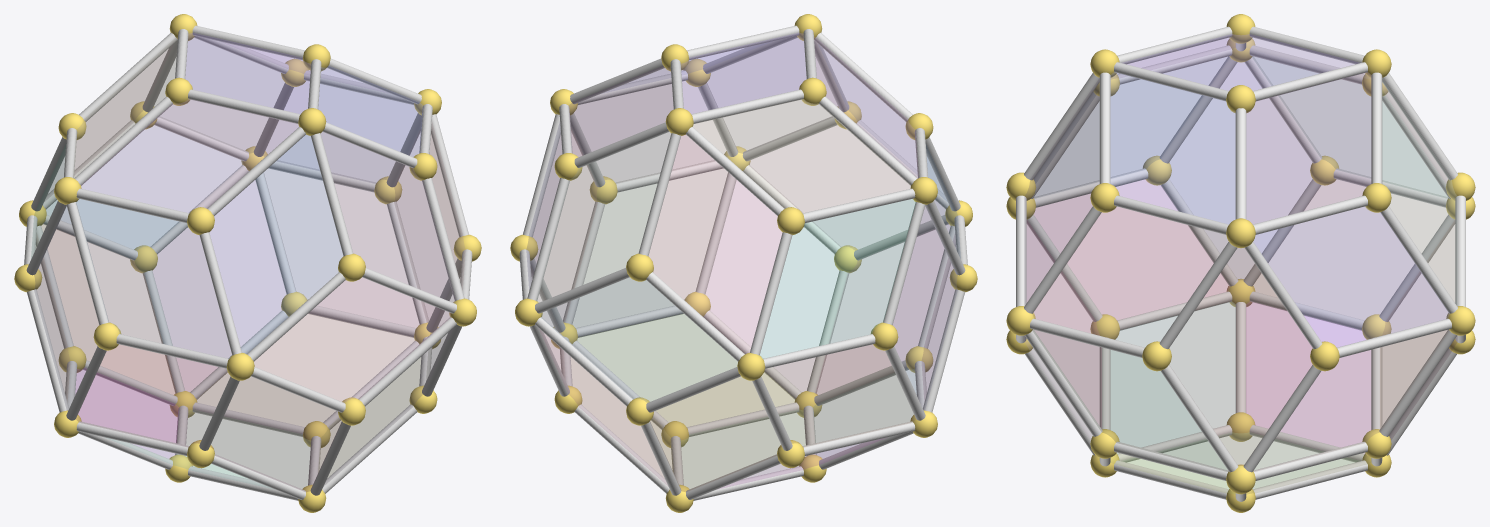
3 renders of one model, left to right at view 1: azimuth 30°, elevation 25°; view 2: azimuth 150°, elevation 25°; view 3: azimuth 270°, elevation 25°, orthographic. The views are drawn at different scales.
Parts seen in each view (by area): view 1: Cristal.007, Cristal.006, Cristal.022, Cristal.008, Cristal.027, Cristal.023, Cristal.018, Cristal.021, Cristal.030, Cristal.005, Cristal.003, Cristal.011 (+87 smaller); view 2: Cristal.014, Cristal.012, Cristal.015, Cristal.013, Cristal.030, Cristal.017, Cristal.024, Cristal.016, Cristal.027, Cristal.010, Cristal.011, Cristal.003 (+87 smaller); view 3: Cristal.032, Cristal.019, Cristal.026, Cristal.020, Cristal.025, Cristal.005, Cristal.010, Cristal.029, Cristal.004, Cristal.009, Cristal.017, Cristal.023 (+83 smaller).
Boxes of the visible parts, x1=… form: Cristal.007: x1=210, y1=135, x2=342, y2=353; Cristal.006: x1=76, y1=199, x2=231, y2=358; Cristal.022: x1=153, y1=181, x2=285, y2=391; Cristal.008: x1=81, y1=99, x2=298, y2=212; Cristal.027: x1=254, y1=278, x2=450, y2=402; Cristal.023: x1=264, y1=169, x2=418, y2=327; Cristal.018: x1=321, y1=132, x2=455, y2=302; Cristal.021: x1=197, y1=314, x2=413, y2=426; Cristal.030: x1=46, y1=126, x2=242, y2=250; Cristal.005: x1=76, y1=344, x2=229, y2=446; Cristal.003: x1=210, y1=377, x2=341, y2=491; Cristal.011: x1=42, y1=224, x2=175, y2=394; Cristal.014: x1=649, y1=135, x2=781, y2=353; Cristal.012: x1=760, y1=199, x2=915, y2=358; Cristal.015: x1=706, y1=181, x2=838, y2=391; Cristal.013: x1=693, y1=99, x2=910, y2=212; Cristal.030: x1=541, y1=278, x2=737, y2=402; Cristal.017: x1=573, y1=169, x2=727, y2=327; Cristal.024: x1=536, y1=132, x2=670, y2=302; Cristal.016: x1=578, y1=314, x2=794, y2=426; Cristal.027: x1=749, y1=126, x2=945, y2=250; Cristal.010: x1=762, y1=344, x2=915, y2=446; Cristal.011: x1=650, y1=377, x2=781, y2=491; Cristal.003: x1=816, y1=224, x2=949, y2=394; Cristal.032: x1=1169, y1=248, x2=1312, y2=465; Cristal.019: x1=1033, y1=206, x2=1228, y2=346; Cristal.026: x1=1253, y1=206, x2=1448, y2=346; Cristal.020: x1=1110, y1=72, x2=1235, y2=223; Cristal.025: x1=1246, y1=72, x2=1371, y2=223; Cristal.005: x1=1034, y1=180, x2=1229, y2=319; Cristal.010: x1=1252, y1=180, x2=1447, y2=319; Cristal.029: x1=1170, y1=63, x2=1311, y2=279; Cristal.004: x1=1111, y1=302, x2=1235, y2=446; Cristal.009: x1=1246, y1=302, x2=1370, y2=446; Cristal.017: x1=1033, y1=330, x2=1227, y2=471; Cristal.023: x1=1254, y1=330, x2=1448, y2=471.
Size of the model in its own units: 6.91 by 6.91 by 6.91.
